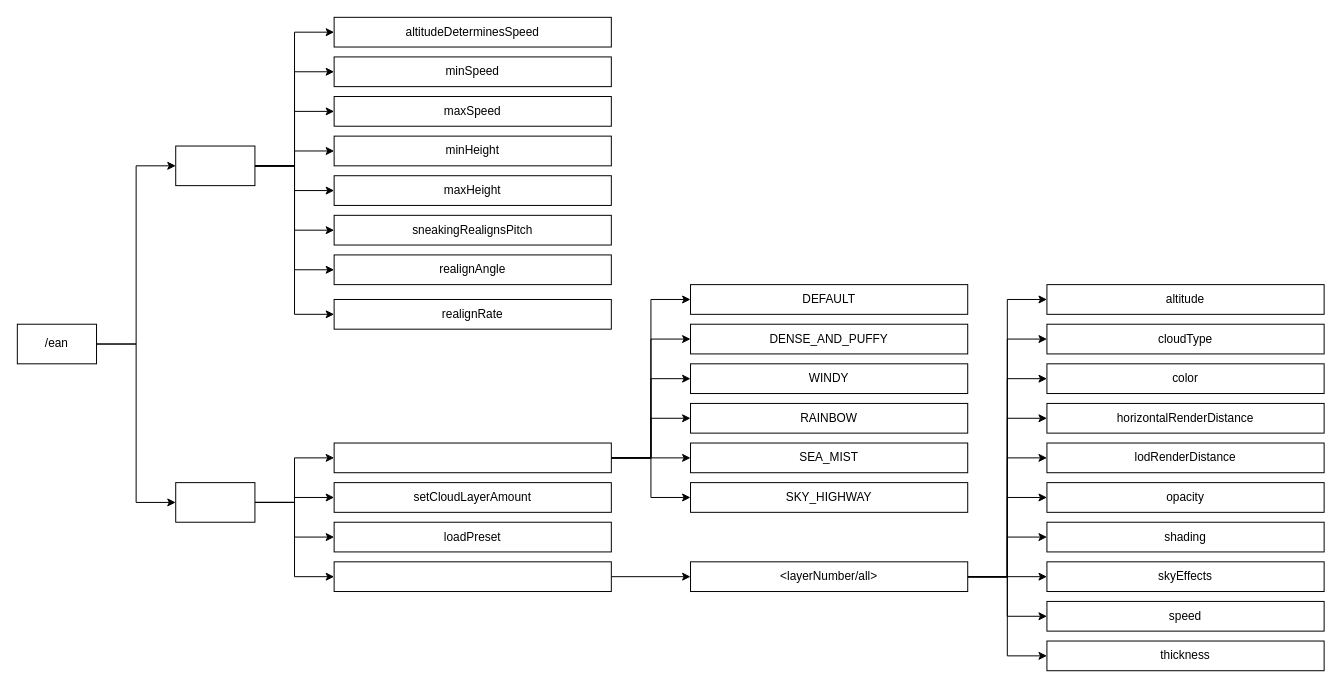
This 1341x688 diagram has some shape labels left out. The centre of each missing label's shape, as x and y in pixels:
"CloudConfig" belongs at point 215,502.
"configCloudLayer" belongs at point 472,576.
"FlightConfig" belongs at point 215,165.
"useEanCloudRendering" belongs at point 472,457.
